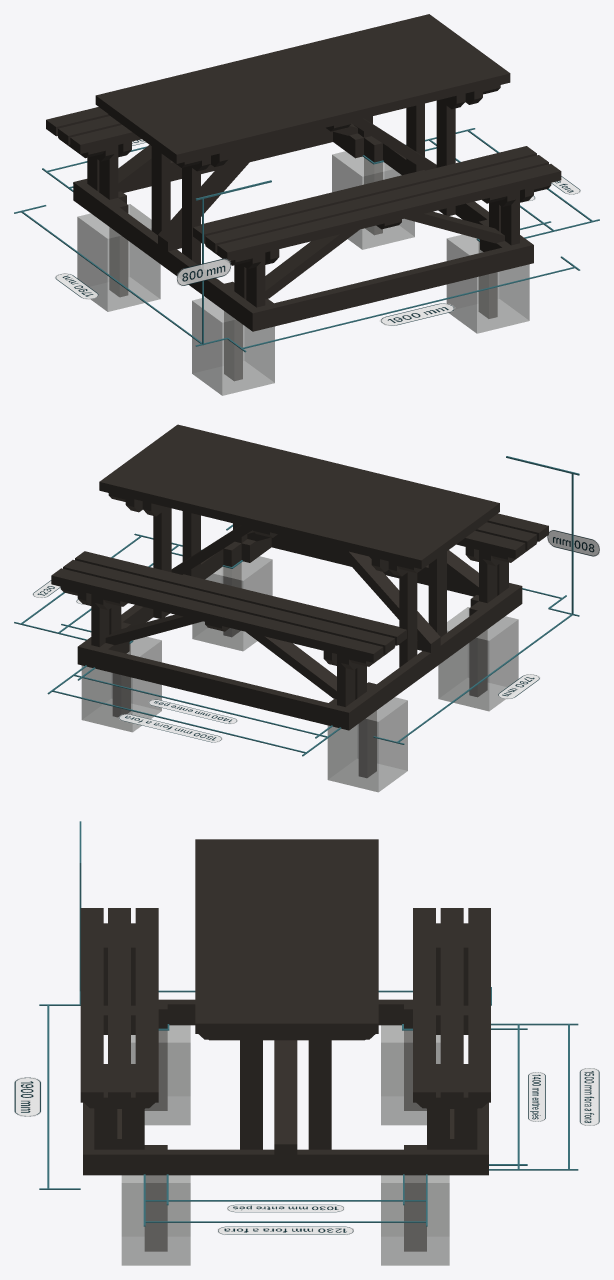
Rendered from conjunto-1a-1900.glb.
3 views of the same model, one above another, from view 1: azimuth 30°, elevation 25°; view 2: azimuth 150°, elevation 25°; view 3: azimuth 270°, elevation 25° (orthographic). The views are drawn at different scales.
Parts seen in each view (by area): view 1: Geo0, EnBetao, EnPerfil, CL, CHn, FL, CWn, CDn; view 2: Geo0, EnBetao, EnPerfil, FL, CL, FT1, CHn, FT0, CDn; view 3: Geo0, EnBetao, EnPerfil, FL, CL, FT3, FT1, CWn, FT2, FT0.
Part boxes in pixels (left/top/right/bottom): Geo0: left=46, top=14, right=561, bottom=331; EnBetao: left=77, top=151, right=529, bottom=395; EnPerfil: left=109, top=158, right=497, bottom=380; CL: left=14, top=180, right=580, bottom=352; CHn: left=176, top=258, right=231, bottom=285; FL: left=42, top=128, right=599, bottom=238; CWn: left=379, top=303, right=455, bottom=325; CDn: left=55, top=273, right=98, bottom=299; Geo0: left=51, top=424, right=548, bottom=730; EnBetao: left=81, top=556, right=518, bottom=792; EnPerfil: left=113, top=563, right=487, bottom=777; FL: left=14, top=533, right=341, bottom=756; CL: left=226, top=456, right=579, bottom=744; FT1: left=118, top=714, right=222, bottom=742; CHn: left=547, top=530, right=599, bottom=556; FT0: left=148, top=699, right=237, bottom=723; CDn: left=497, top=674, right=539, bottom=699; Geo0: left=80, top=839, right=490, bottom=1175; EnBetao: left=121, top=1025, right=449, bottom=1265; EnPerfil: left=145, top=1031, right=426, bottom=1251; FL: left=143, top=1023, right=578, bottom=1226; CL: left=39, top=821, right=491, bottom=1189; FT3: left=217, top=1226, right=353, bottom=1234; FT1: left=579, top=1068, right=599, bottom=1125; CWn: left=14, top=1077, right=40, bottom=1116; FT2: left=227, top=1204, right=344, bottom=1212; FT0: left=528, top=1072, right=545, bottom=1121.
Bounding box in the file's own units: 2.77 × 1.2 × 2.55.
Materials: 12 (8 with a texture image).
